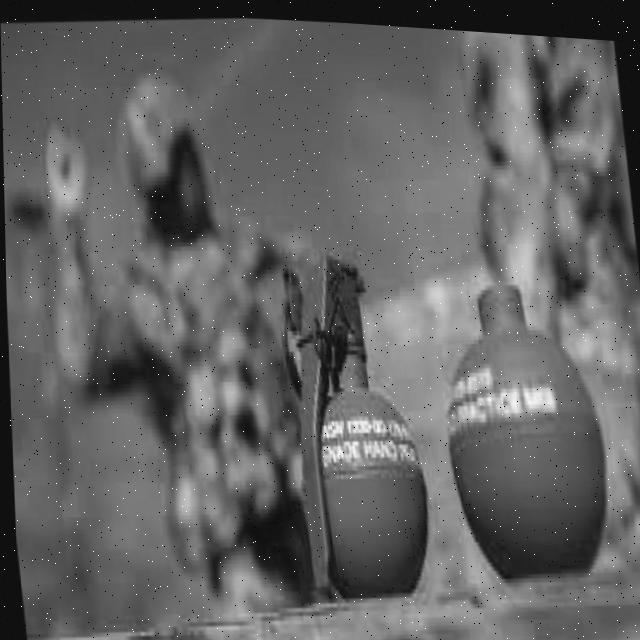grenade: (267, 240, 436, 606)
